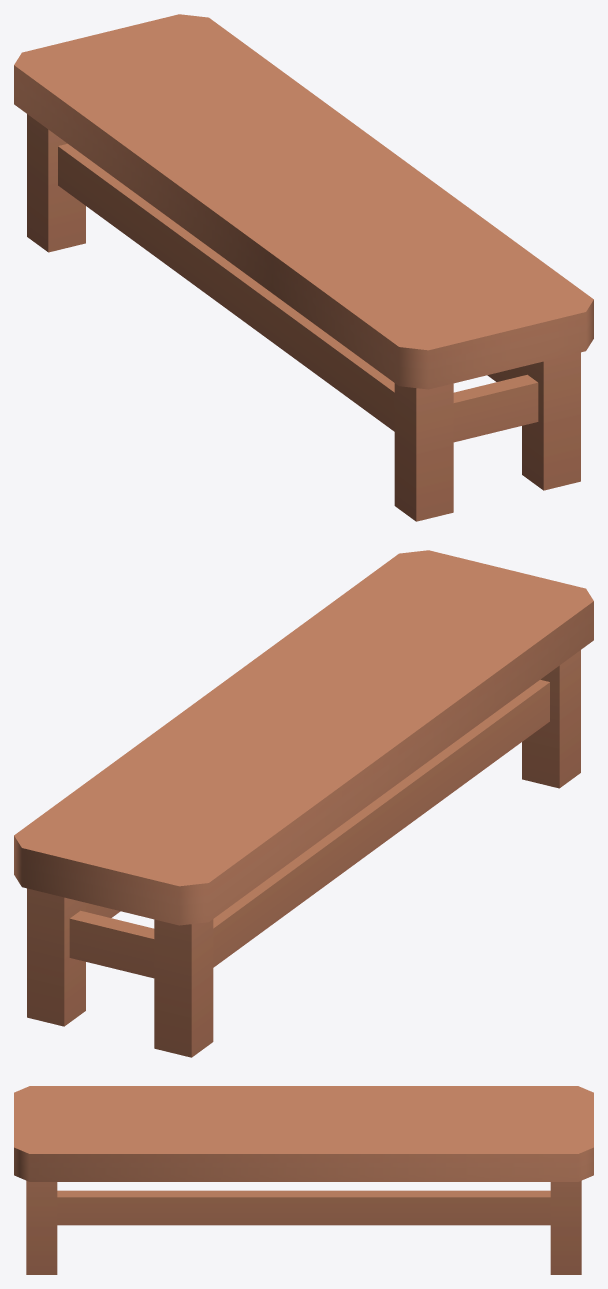
Rendered from stall_bench.glb.
3 views of the same model, one above another, from view 1: azimuth 30°, elevation 25°; view 2: azimuth 150°, elevation 25°; view 3: azimuth 270°, elevation 25° (orthographic). The views are drawn at different scales.
Visible parts, largest first — view 1: stall-bench; view 2: stall-bench; view 3: stall-bench.
Part boxes in pixels (box(x1,y1,x2,y2)): stall-bench: box(14, 14, 593, 521); stall-bench: box(14, 550, 593, 1057); stall-bench: box(14, 1086, 593, 1274).
Size of the model in its own units: 0.2601 by 0.2255 by 0.94.
Materials: 1 (1 with a texture image).
